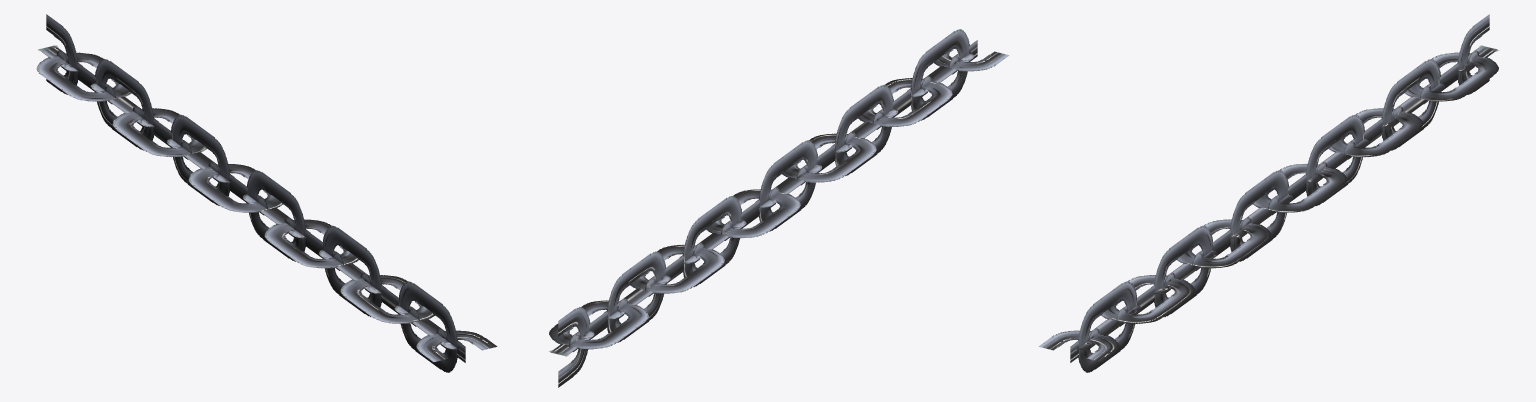
The model's file is chain.fbx.
3 renders of one model, left to right at view 1: azimuth 30°, elevation 25°; view 2: azimuth 150°, elevation 25°; view 3: azimuth 330°, elevation 25°, orthographic.
Parts seen in each view (by area): view 1: ChainPlane; view 2: ChainPlane; view 3: ChainPlane.
Boxes of the visible parts, x1,y1,x2,y2 form: ChainPlane: (36,14,497,372); ChainPlane: (548,29,1009,387); ChainPlane: (1038,14,1499,372).
Bounding box in the file's own units: 15.87 × 15.87 × 180.
